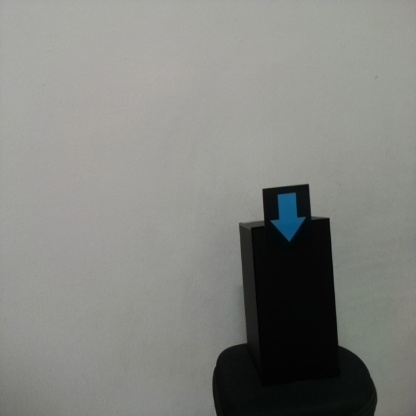id_2: (262, 188, 312, 255)
